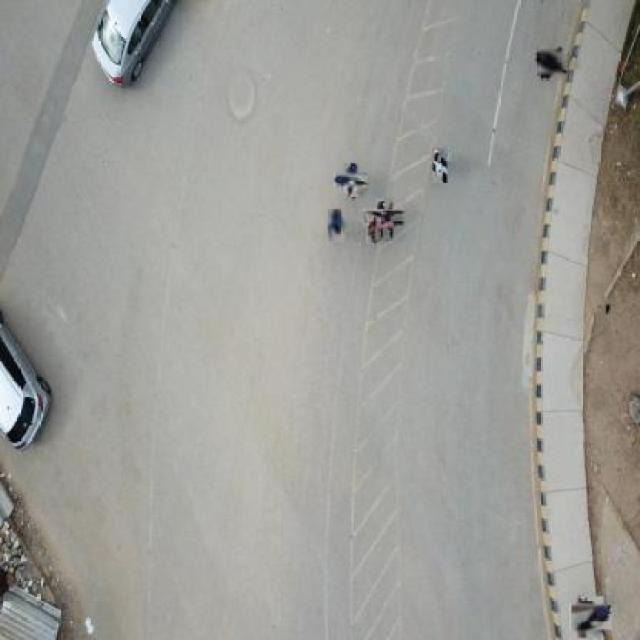Person: (574, 600, 609, 635), (369, 203, 400, 234), (538, 49, 565, 77), (432, 148, 450, 185), (328, 209, 346, 246), (339, 169, 364, 193), (367, 216, 382, 244)
